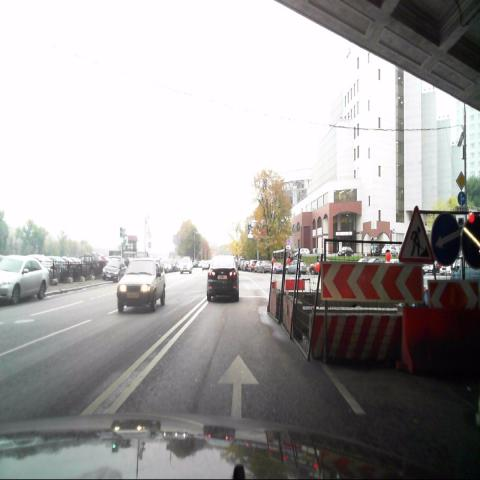1_25: (398, 205, 433, 264)
